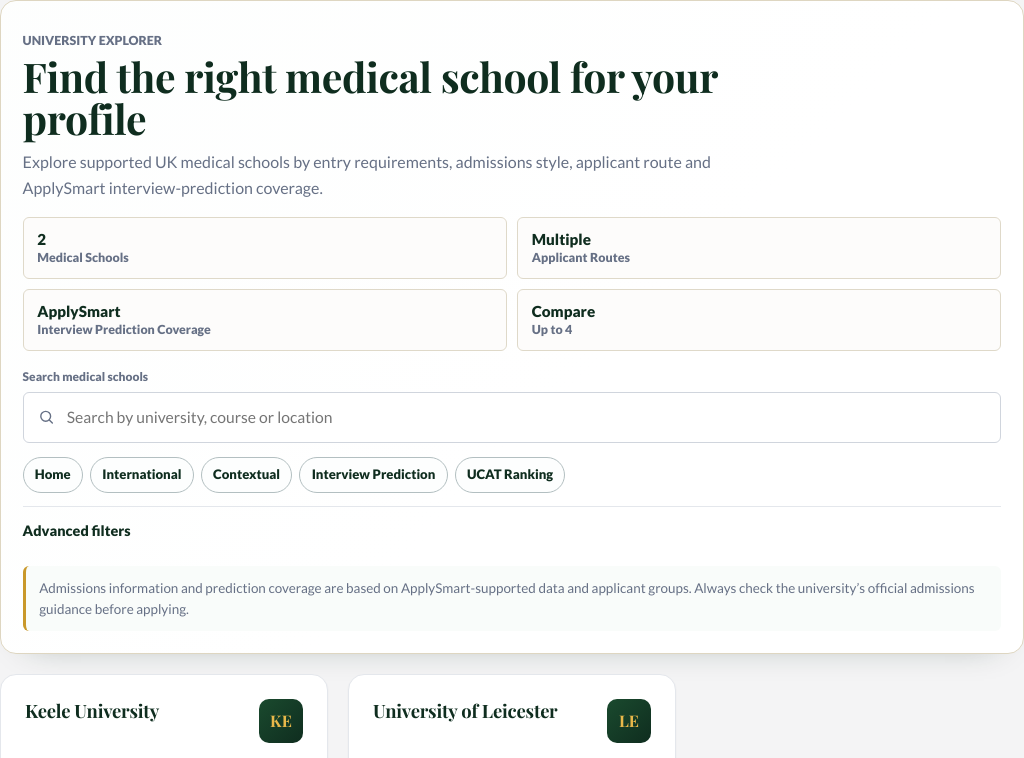
Scenario: UniversityPickerPage › applies quick filters through the existing filter state
Step 1. Click the button with aria-label "apply contextual filter" → (247, 474), box [201,456,292,492]
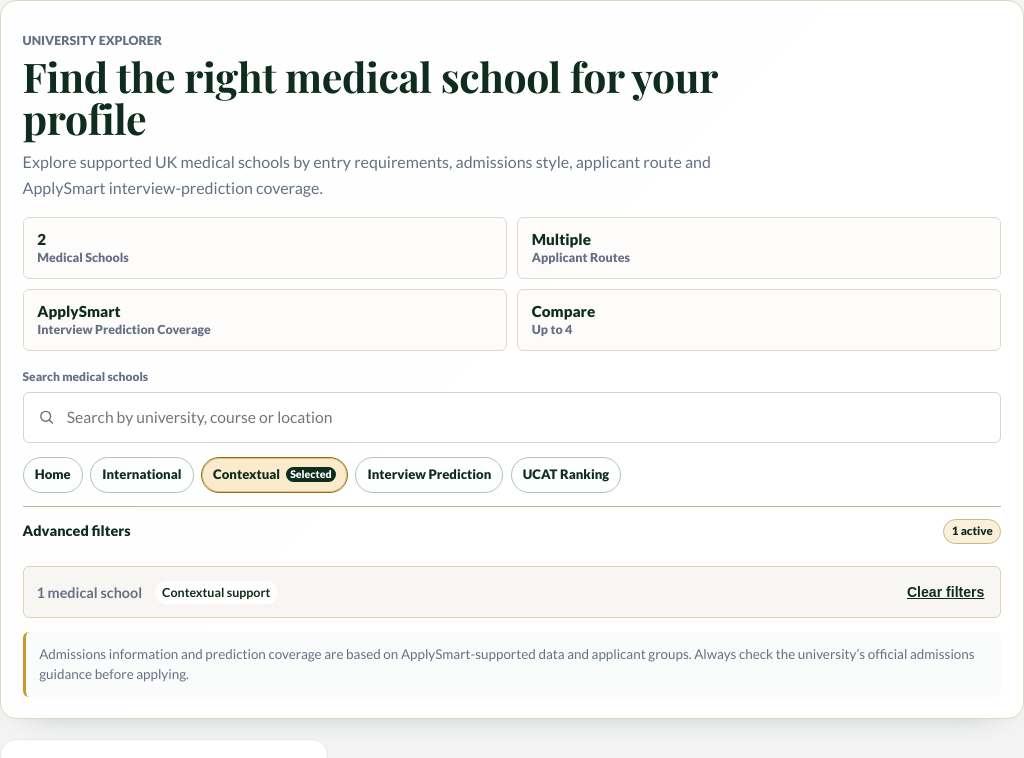
Check: the heading "University of Leicester" is gone
Step 2. Click the button with aria-label "remove contextual filter" → (275, 474), box [201,456,348,492]
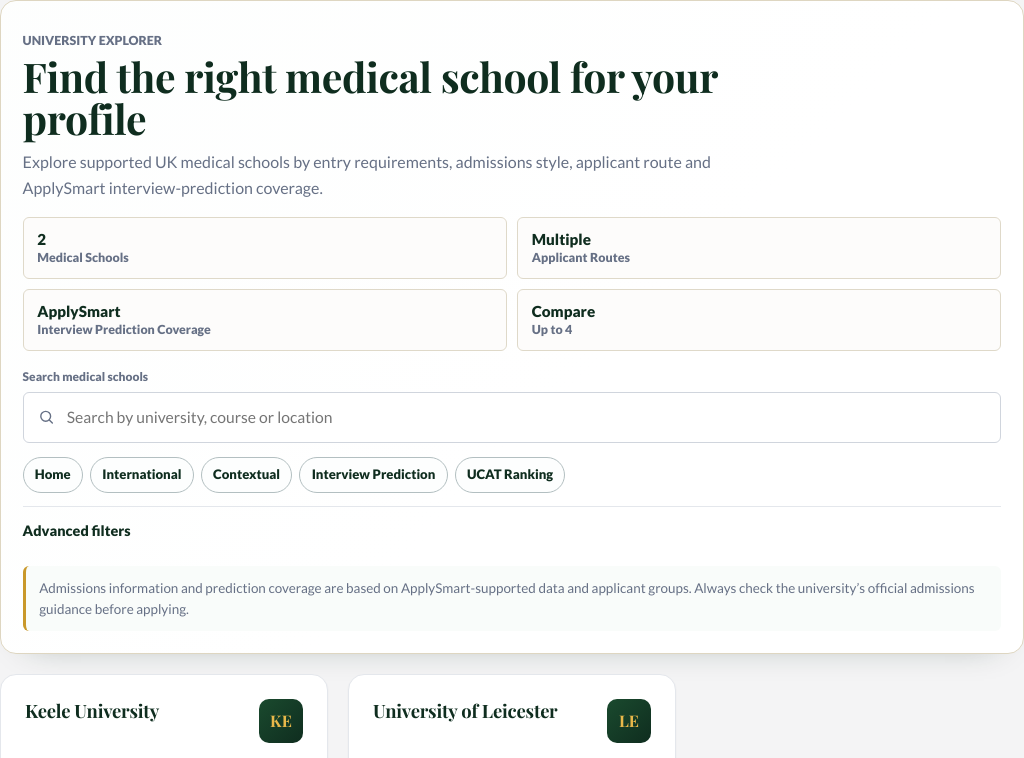
Check: the heading "University of Leicester" is shown, box [373,698,558,722]
